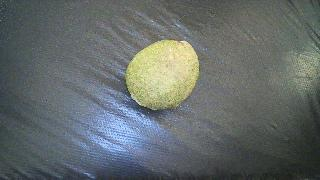DESECHO: (125, 40, 199, 110)
